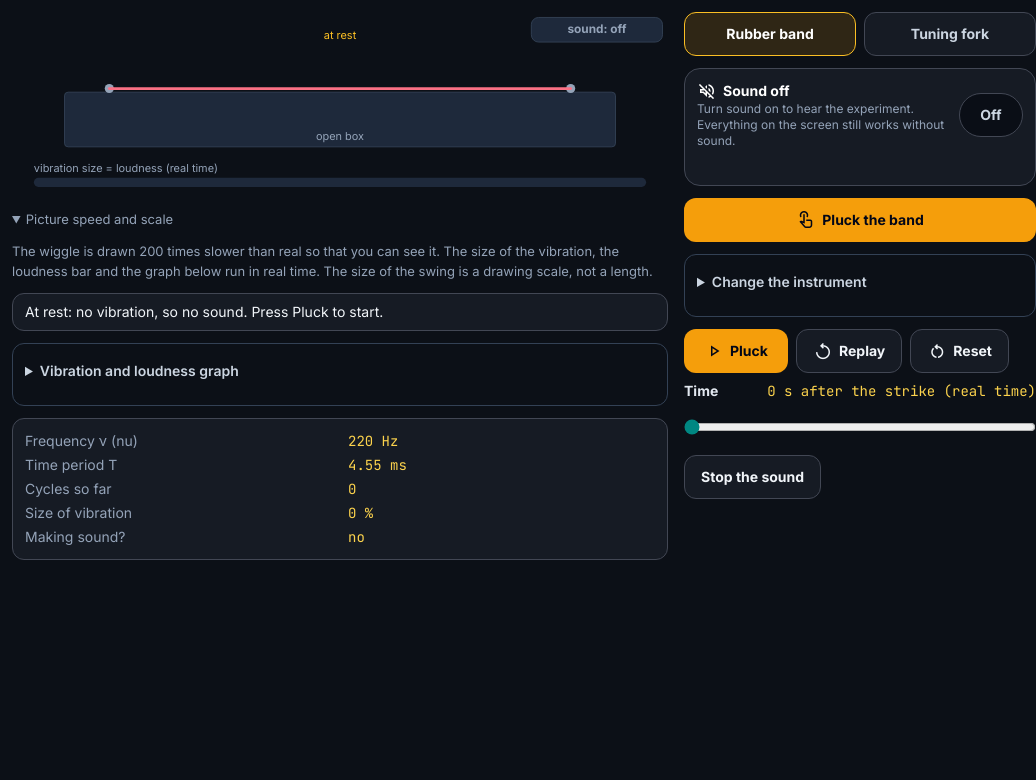
it: Vibration Laboratory: sound is off, silent and safe › switching sound off stops a playing tone
Click the switch with test id "sound-toggle" at [991, 115], box 959,93 -> 1023,137
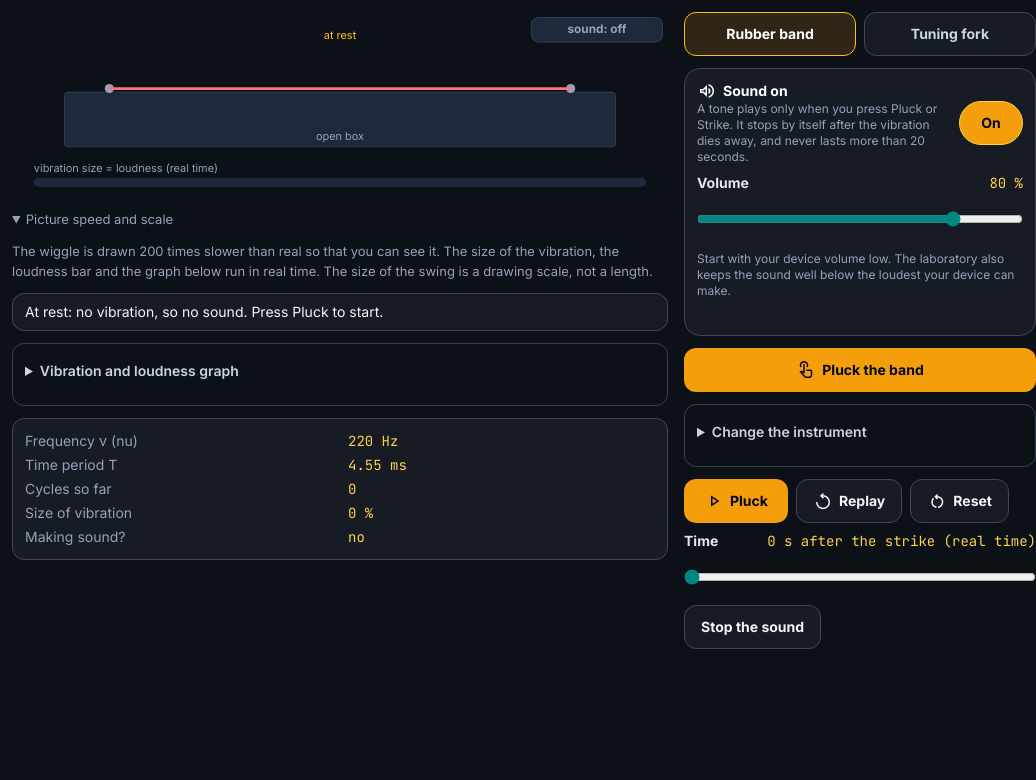
Click the button "Pluck the band" at [860, 370], box 684,348 -> 1035,392
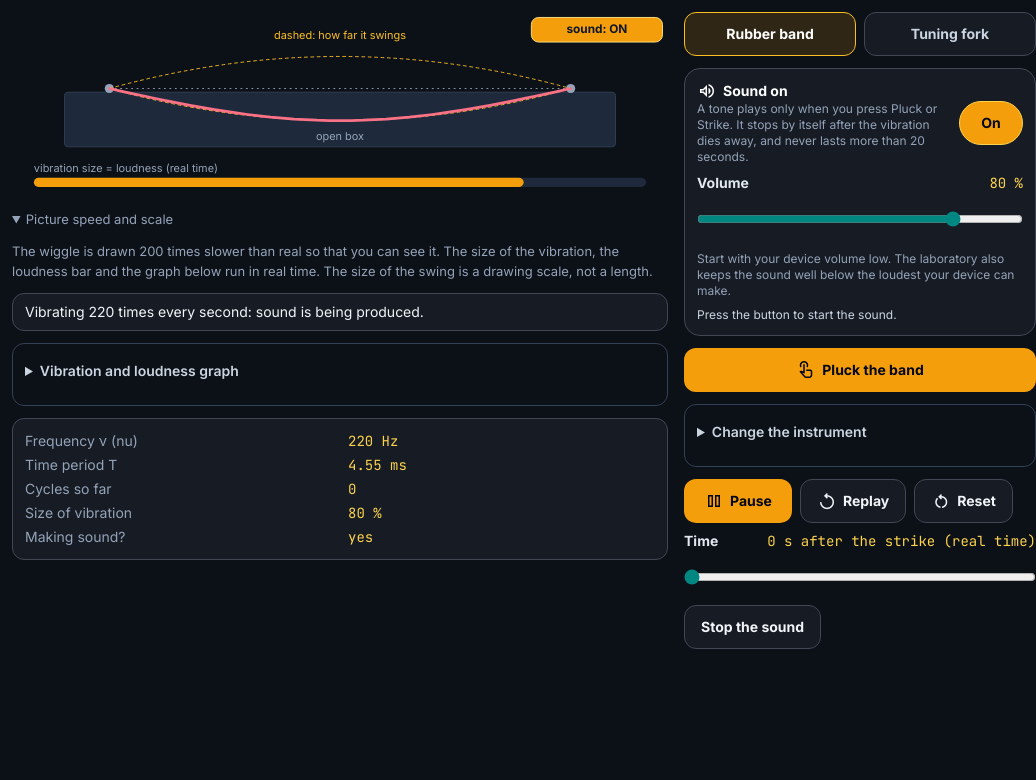
Click the switch with test id "sound-toggle" at [991, 123], box 959,101 -> 1023,145
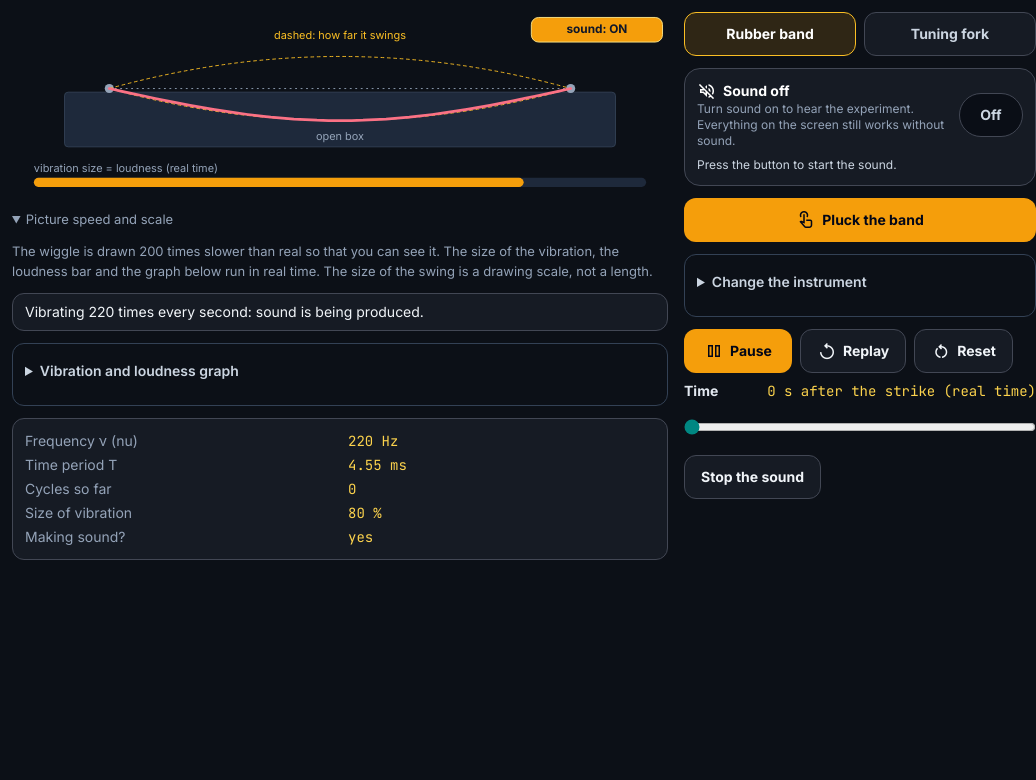
Expected: the switch with test id "sound-toggle" reads "Off", 959,93 -> 1023,137
